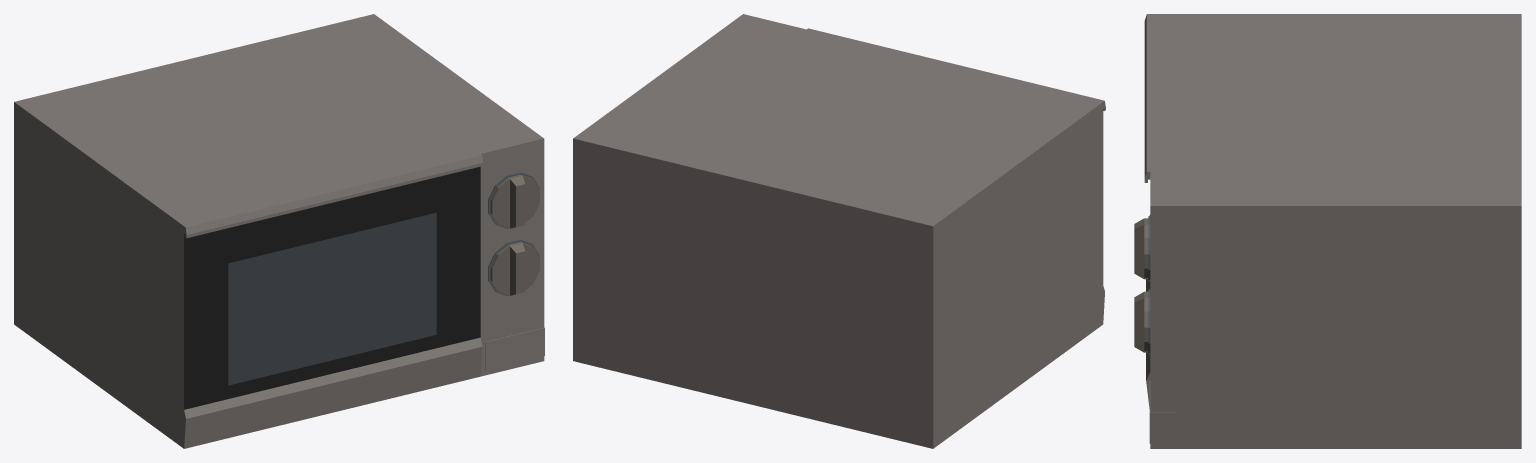
The model's file is microwave_01_A.gltf.
The picture shows the model from 3 angles, left to right: view 1: azimuth 30°, elevation 25°; view 2: azimuth 150°, elevation 25°; view 3: azimuth 270°, elevation 25°; orthographic projection. The views are drawn at different scales.
Parts seen in each view (by area): view 1: microwave_01_ A, DoorFORmicrowave_01_A, Switchformicrowave_01_A, Switchformicrowave_02_A, buttonformicrowave_01_A; view 2: microwave_01_ A, DoorFORmicrowave_01_A; view 3: microwave_01_ A, DoorFORmicrowave_01_A, buttonformicrowave_01_A, Switchformicrowave_01_A, Switchformicrowave_02_A.
Boxes of the visible parts, x1,y1,x2,y2 form: microwave_01_ A: (14,14,544,435); DoorFORmicrowave_01_A: (166,141,483,448); Switchformicrowave_01_A: (490,174,539,228); Switchformicrowave_02_A: (490,241,539,295); buttonformicrowave_01_A: (485,327,544,370); microwave_01_ A: (573,14,1085,448); DoorFORmicrowave_01_A: (789,28,1105,337); microwave_01_ A: (1148,14,1521,448); DoorFORmicrowave_01_A: (1144,14,1188,408); buttonformicrowave_01_A: (1149,381,1175,443); Switchformicrowave_01_A: (1134,218,1148,279); Switchformicrowave_02_A: (1134,291,1148,352).
Bounding box in the file's own units: 0.4405 × 0.26 × 0.3754.
Materials: 1 (1 with a texture image).
